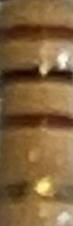Black: (1, 68, 72, 89)
Brown: (2, 110, 72, 133), (0, 24, 72, 45)
Side-Gold: (2, 182, 73, 208)
